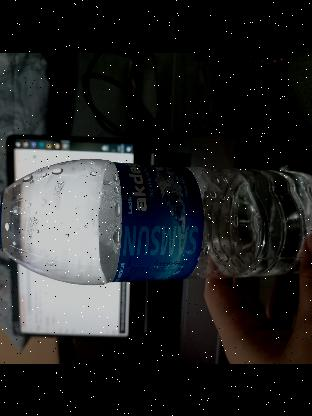Plastic Bottle: (0, 158, 312, 284)
